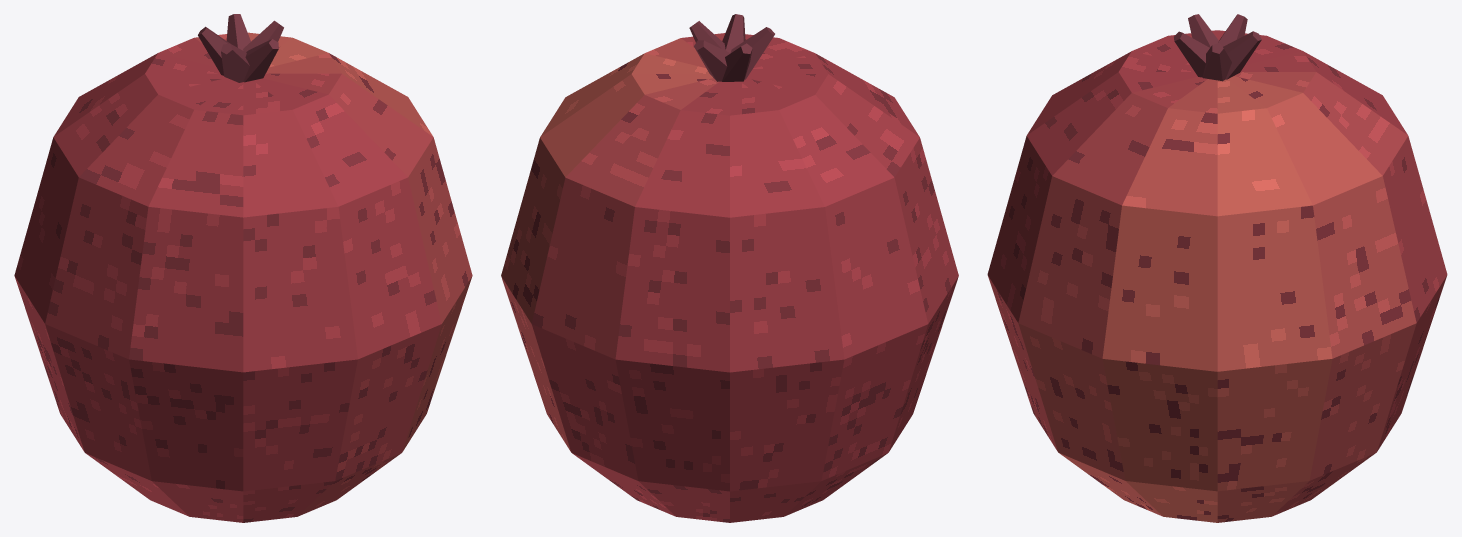
The model's file is pomegranate.glb.
The picture shows the model from 3 angles, left to right: view 1: azimuth 30°, elevation 25°; view 2: azimuth 150°, elevation 25°; view 3: azimuth 270°, elevation 25°; orthographic projection.
Parts seen in each view (by area): view 1: block_pomegranate, block_dried calyx (×4); view 2: block_pomegranate, block_dried calyx (×4); view 3: block_pomegranate, block_dried calyx (×4).
Boxes of the visible parts, left/top/right/bottom form: block_pomegranate: left=14, top=32, right=472, bottom=522; block_dried calyx (×4): left=198, top=14, right=278, bottom=82; block_pomegranate: left=501, top=33, right=958, bottom=522; block_dried calyx (×4): left=694, top=14, right=774, bottom=81; block_pomegranate: left=987, top=30, right=1447, bottom=522; block_dried calyx (×4): left=1174, top=14, right=1261, bottom=81.
Size of the model in its own units: 0.1373 by 0.1483 by 0.1373.
1 material, 1 textured.
